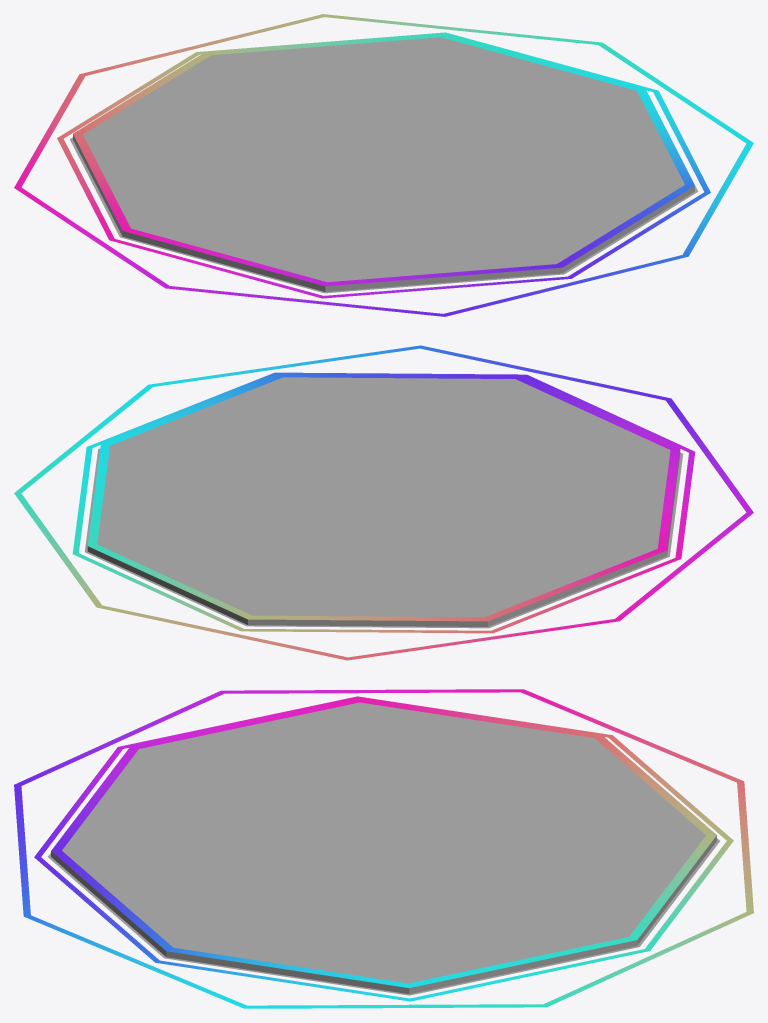
The model's file is KDS_Stage.fbx.
3 renders of one model, top to bottom at view 1: azimuth 30°, elevation 25°; view 2: azimuth 150°, elevation 25°; view 3: azimuth 270°, elevation 25°, orthographic. The views are drawn at different scales.
Parts seen in each view (by area): view 1: KDS_Stage; view 2: KDS_Stage; view 3: KDS_Stage.
Part boxes in pixels (box(x1,y1,x2,y2)): KDS_Stage: box(14, 14, 753, 316); KDS_Stage: box(14, 345, 753, 660); KDS_Stage: box(14, 689, 753, 1008).
Bounding box in the file's own units: 17.15 × 0.4422 × 17.15.
Materials: 2 (1 with a texture image).
